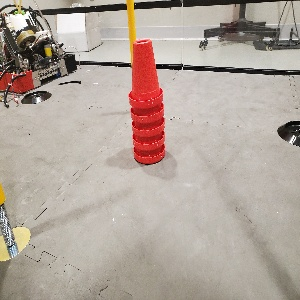Red_5: (128, 38, 165, 165)
